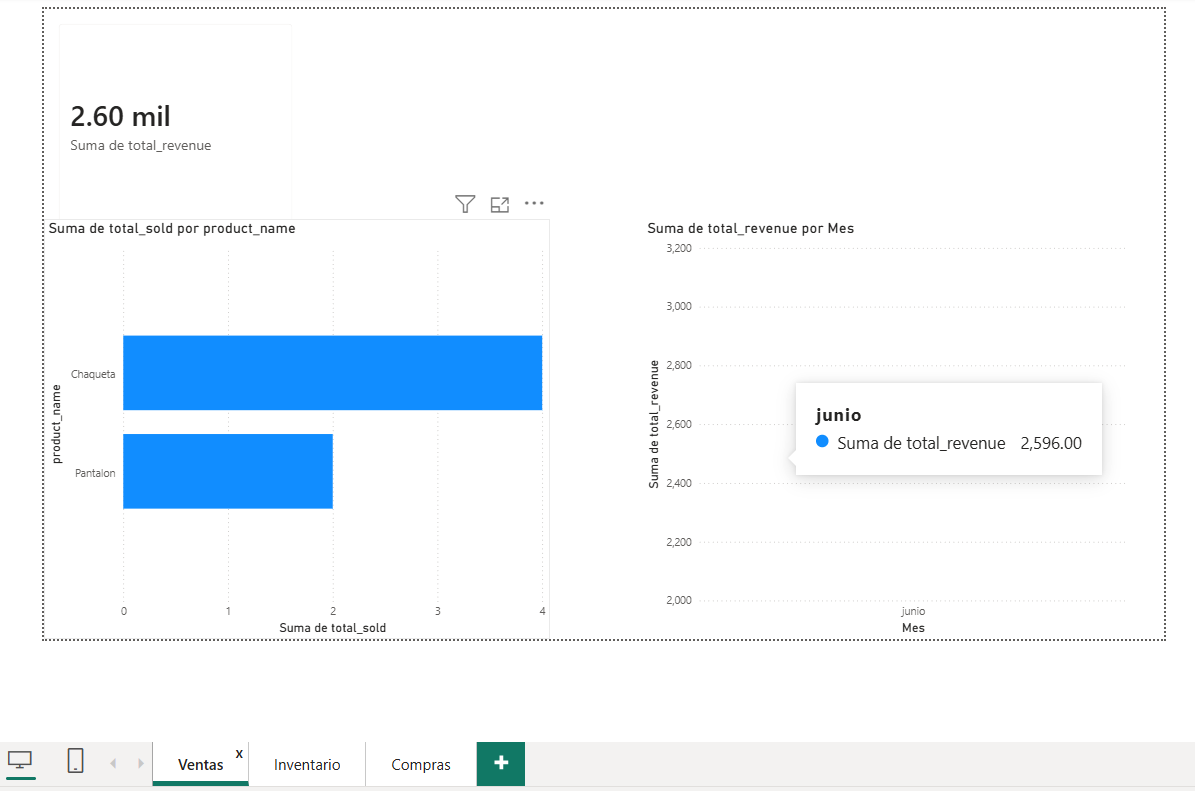

The dashboard page shown, as its layout file describes it:
{"tool":"powerbi","page":{"name":"Ventas","canvas":[1280,720],"ordinal":0},"visuals":[{"type":"cardVisual","fields":{"Data":["Sum(core v_sales_summary.total_revenue)"]},"box":[0,0,301.4,262.9],"z":0},{"type":"clusteredBarChart","fields":{"Category":["core v_top_products.product_name"],"Y":["Sum(core v_top_products.total_sold)"]},"box":[0,240,578.6,480],"z":1000},{"type":"lineChart","fields":{"Category":["core v_sales_summary.day.Variación.Jerarquía de fechas.Mes"],"Y":["Sum(core v_sales_summary.total_revenue)"]},"box":[684.3,240,558.6,480],"z":2002}]}

Visuals, with their boxes on the page's 1280x720 design canvas (x1, y1, x2, y2). These are canvas units, not pixel positions in the 1195x791 screenshot, which may show the page scaled, cropped or inside an application window:
cardVisual - Sum(core v_sales_summary.total_revenue): Rect(0, 0, 301, 263)
clusteredBarChart - core v_top_products.product_name x Sum(core v_top_products.total_sold): Rect(0, 240, 579, 720)
lineChart - core v_sales_summary.day.Variación.Jerarquía de fechas.Mes x Sum(core v_sales_summary.total_revenue): Rect(684, 240, 1243, 720)
